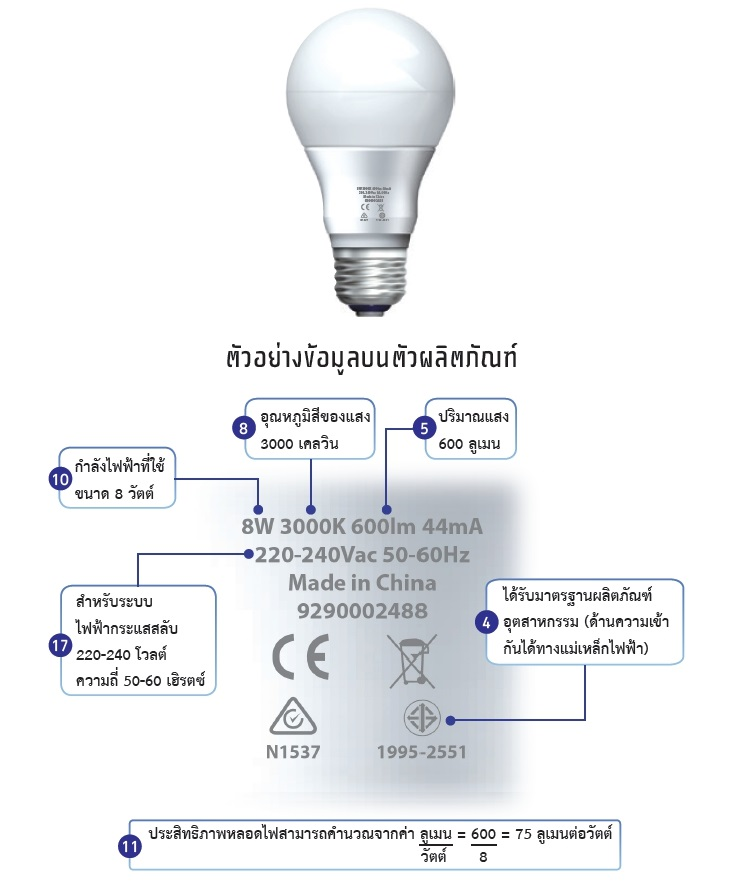Light_bulb: (272, 1, 466, 338)
